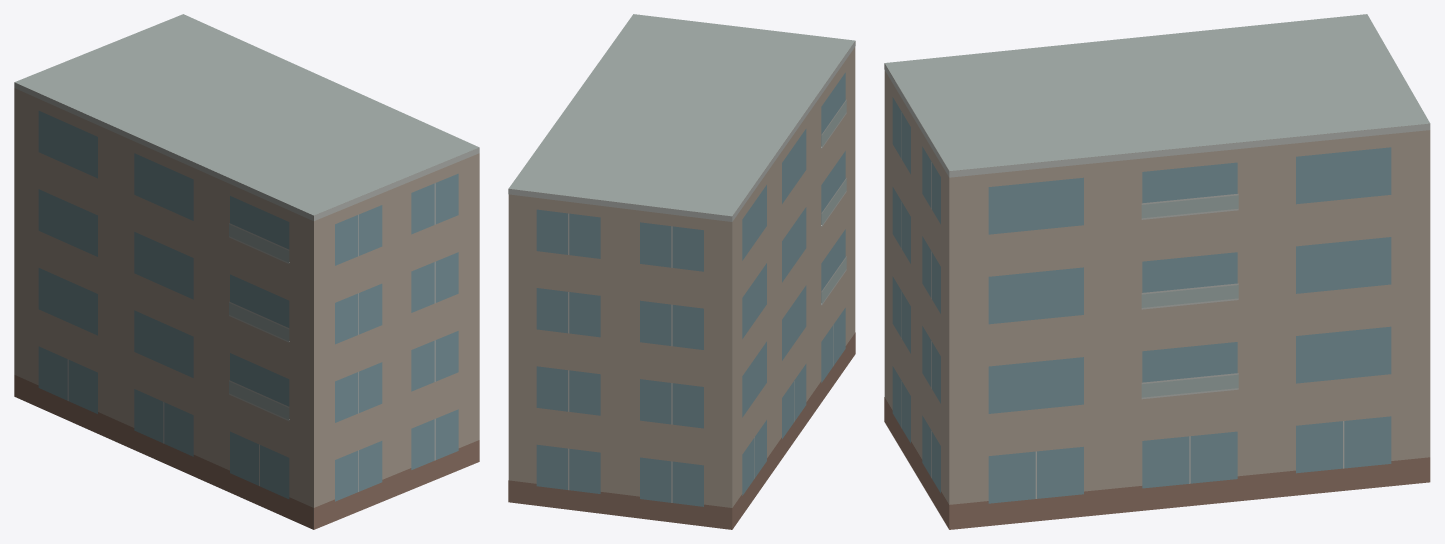
The model's file is survey-upis-33009077.glb.
The picture shows the model from 3 angles, left to right: view 1: azimuth 30°, elevation 25°; view 2: azimuth 150°, elevation 25°; view 3: azimuth 270°, elevation 25°; orthographic projection. The views are drawn at different scales.
Parts seen in each view (by area): view 1: survey-upis-33009077.tmp; view 2: survey-upis-33009077.tmp; view 3: survey-upis-33009077.tmp.
Part boxes in pixels (x1,y1,x2,y2): survey-upis-33009077.tmp: [14, 14, 479, 529]; survey-upis-33009077.tmp: [508, 14, 855, 529]; survey-upis-33009077.tmp: [884, 14, 1430, 529].
Bounding box in the file's own units: 12.65 × 13.45 × 18.56.
